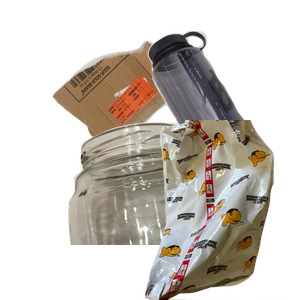cardboard: (50, 38, 233, 184)
glass: (61, 120, 287, 300)
plastic: (145, 28, 300, 192)
trash: (127, 120, 300, 300)
